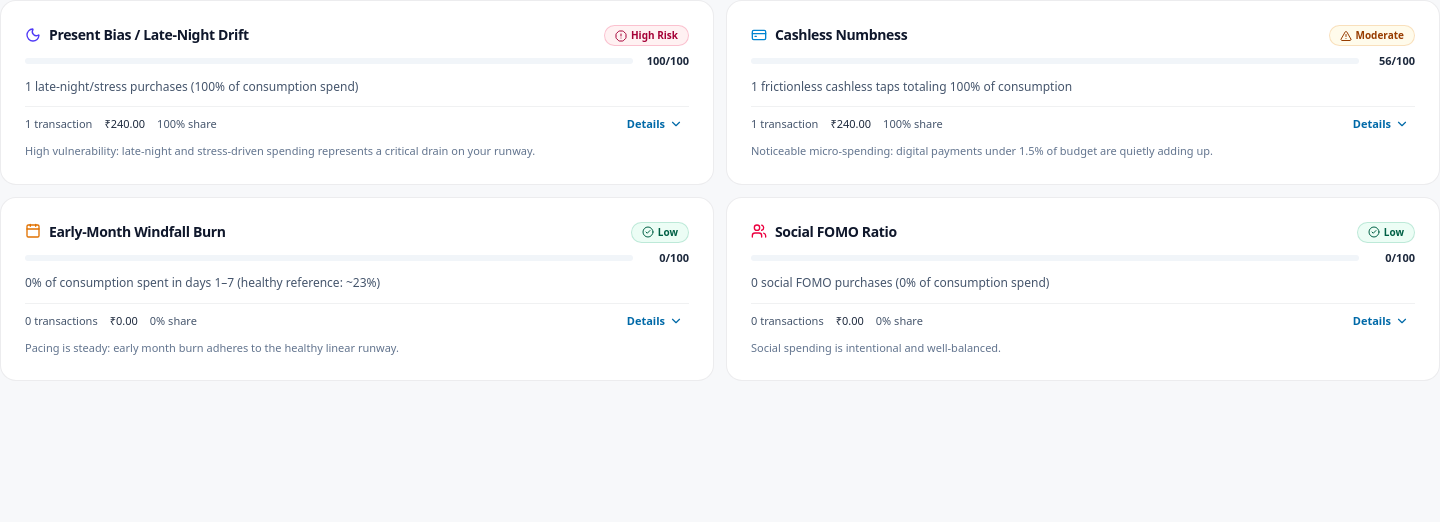
Test: Phase 8: Inline Row & Bias Card Expansion › expands and collapses bias detector cards inline
Later steps or results of the test are not shown.
Click the button "Details" below "High Risk": (655, 125) top-left (621, 115), bottom-right (689, 134)
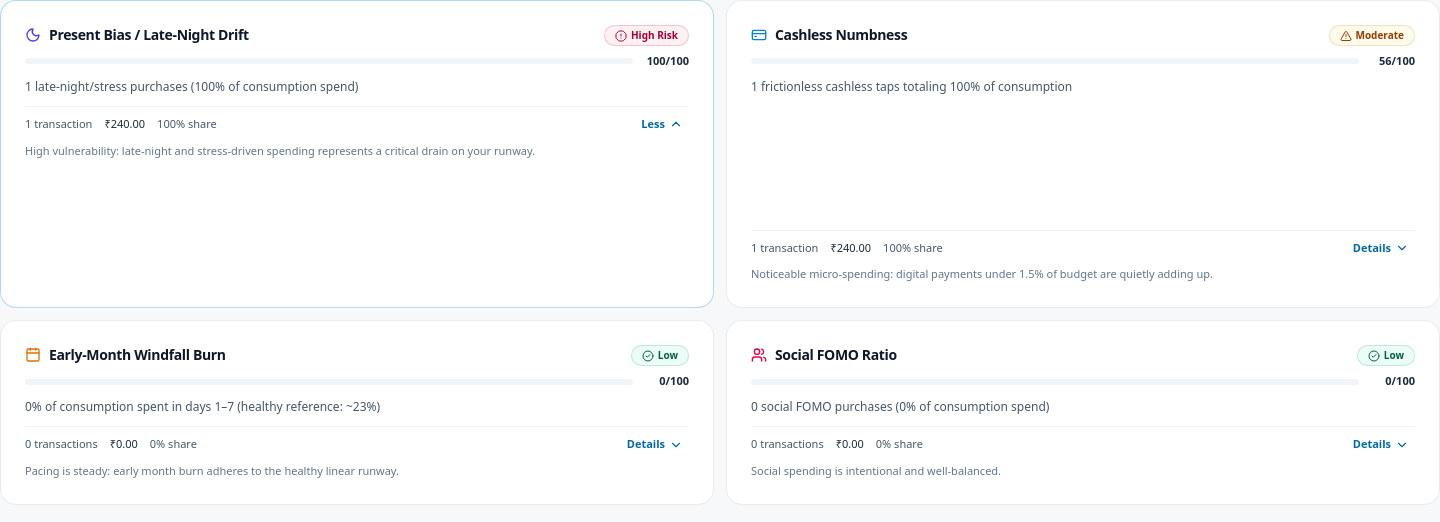
Now the button named "Details" is expanded, box top-left (635, 115), bottom-right (689, 134)
